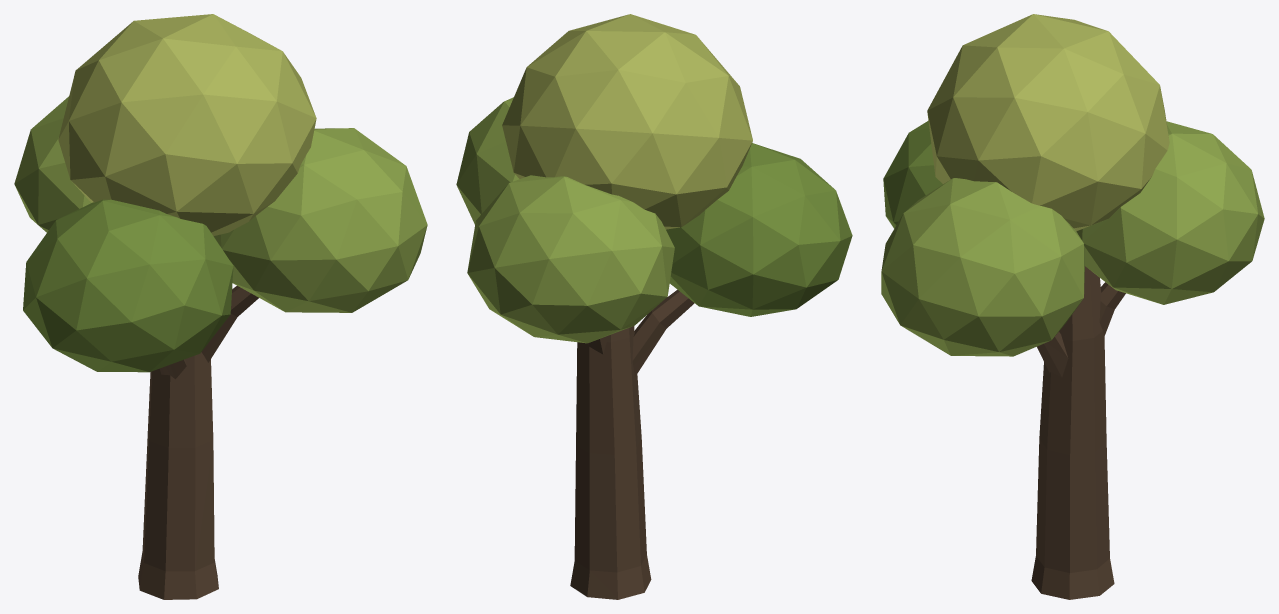
3 views of the same model, side by side, from view 1: azimuth 30°, elevation 25°; view 2: azimuth 150°, elevation 25°; view 3: azimuth 270°, elevation 25° (orthographic). The views are drawn at different scales.
Parts seen in each view (by area): view 1: crown, trunk; view 2: crown, trunk; view 3: crown, trunk.
Boxes of the visible parts, box(x1,y1,x2,y2) form: crown: box(14, 14, 427, 372); trunk: box(138, 286, 258, 599); crown: box(456, 14, 852, 343); trunk: box(570, 290, 694, 599); crown: box(881, 14, 1264, 356); trunk: box(1031, 266, 1125, 599).
Size of the model in its own units: 3.8 by 5.4 by 3.4.
